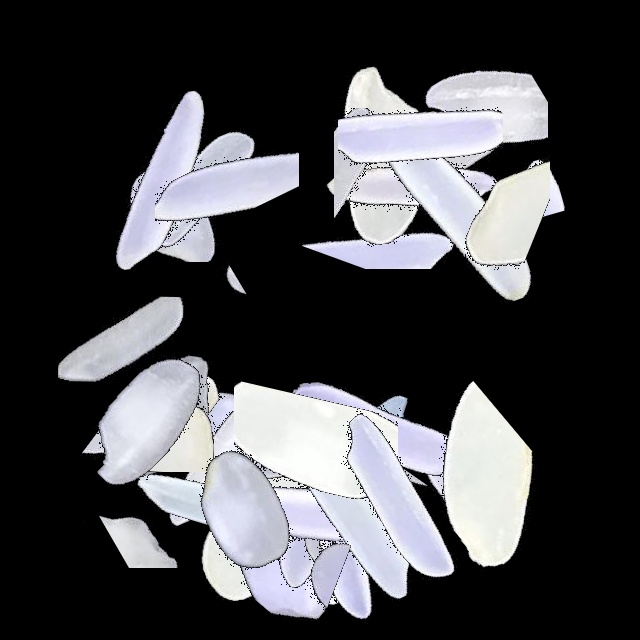Broken: (35, 254, 202, 504), (381, 0, 548, 250), (71, 96, 321, 262), (218, 365, 384, 615), (118, 295, 284, 545), (185, 456, 435, 621), (380, 371, 545, 621), (338, 53, 503, 303), (234, 358, 398, 608), (189, 444, 439, 597), (227, 390, 376, 640), (155, 16, 299, 266), (252, 132, 502, 269), (107, 330, 235, 580), (270, 108, 520, 231), (155, 521, 405, 637), (439, 62, 550, 312), (35, 459, 285, 568), (39, 372, 289, 472), (79, 348, 177, 598), (340, 390, 435, 640), (167, 518, 417, 612), (379, 135, 629, 226), (375, 390, 464, 640), (356, 292, 606, 379), (151, 307, 234, 557), (169, 182, 248, 432), (84, 390, 160, 640)
Full: (164, 390, 414, 640), (232, 328, 482, 578), (191, 390, 441, 640), (111, 314, 361, 564), (81, 60, 331, 310), (331, 26, 581, 276), (260, 28, 510, 278), (287, 58, 537, 308), (258, 302, 508, 552), (211, 390, 461, 640), (90, 338, 340, 588), (334, 89, 584, 339), (95, 383, 345, 633), (33, 54, 283, 304), (213, 386, 463, 636), (191, 325, 441, 575), (221, 390, 471, 640), (202, 390, 452, 640), (227, 390, 477, 640), (19, 295, 269, 545), (119, 385, 369, 635), (273, 373, 523, 623)
